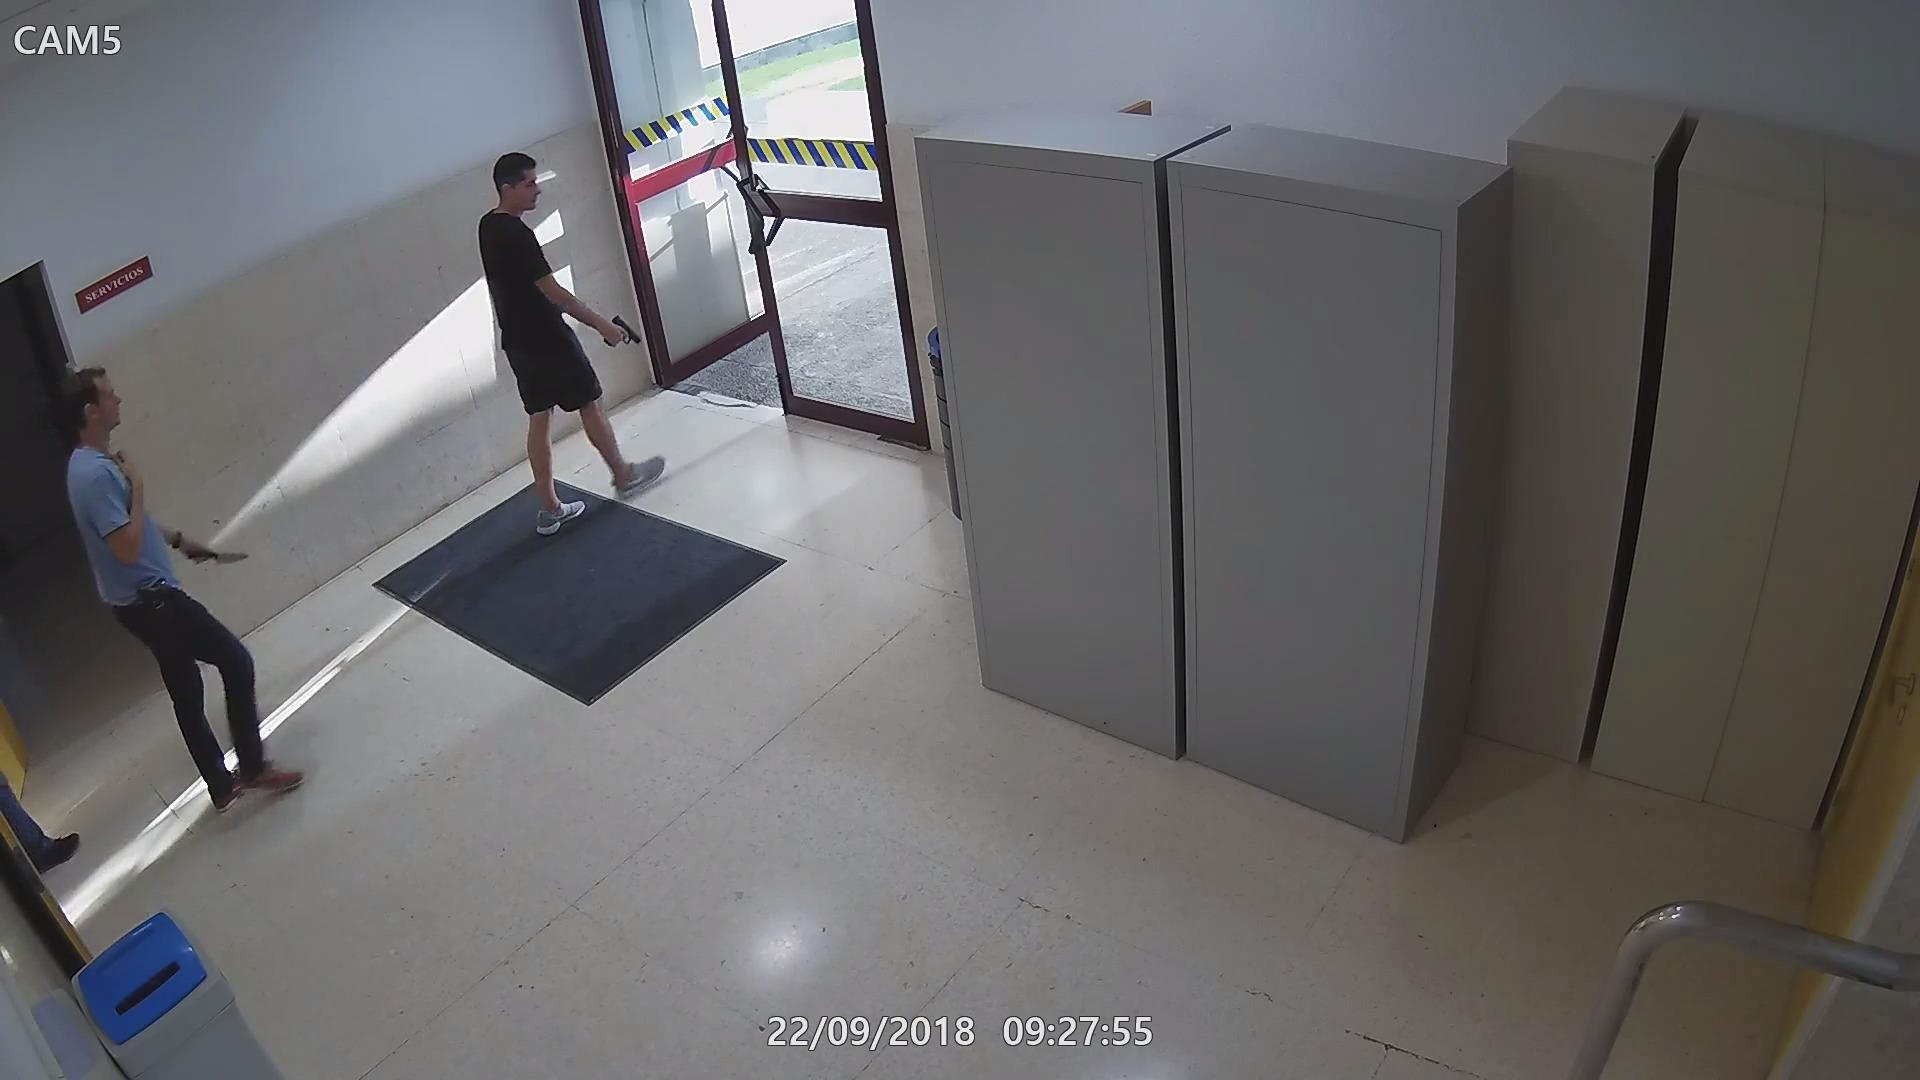Handgun: (135, 575, 178, 629), (597, 315, 644, 351)
